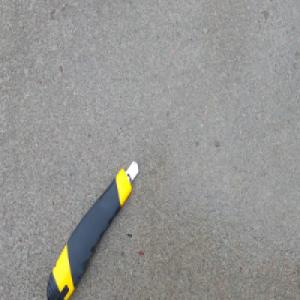Cutter: (45, 158, 139, 300)
